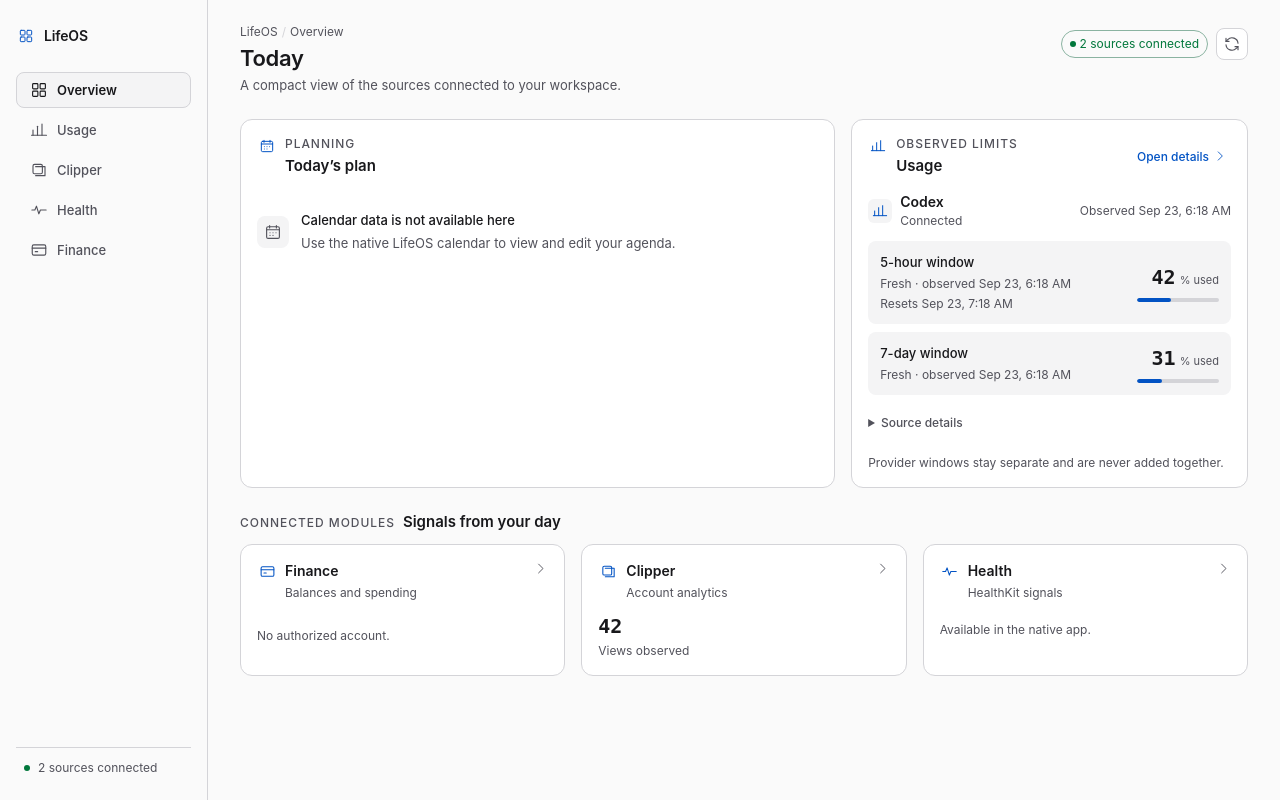
dashboard live source states › keeps the Clipper source summary singular across a stable route change
Click the button with class "nav-button" showing "Clipper" at (104, 170), box [16, 152, 191, 188]
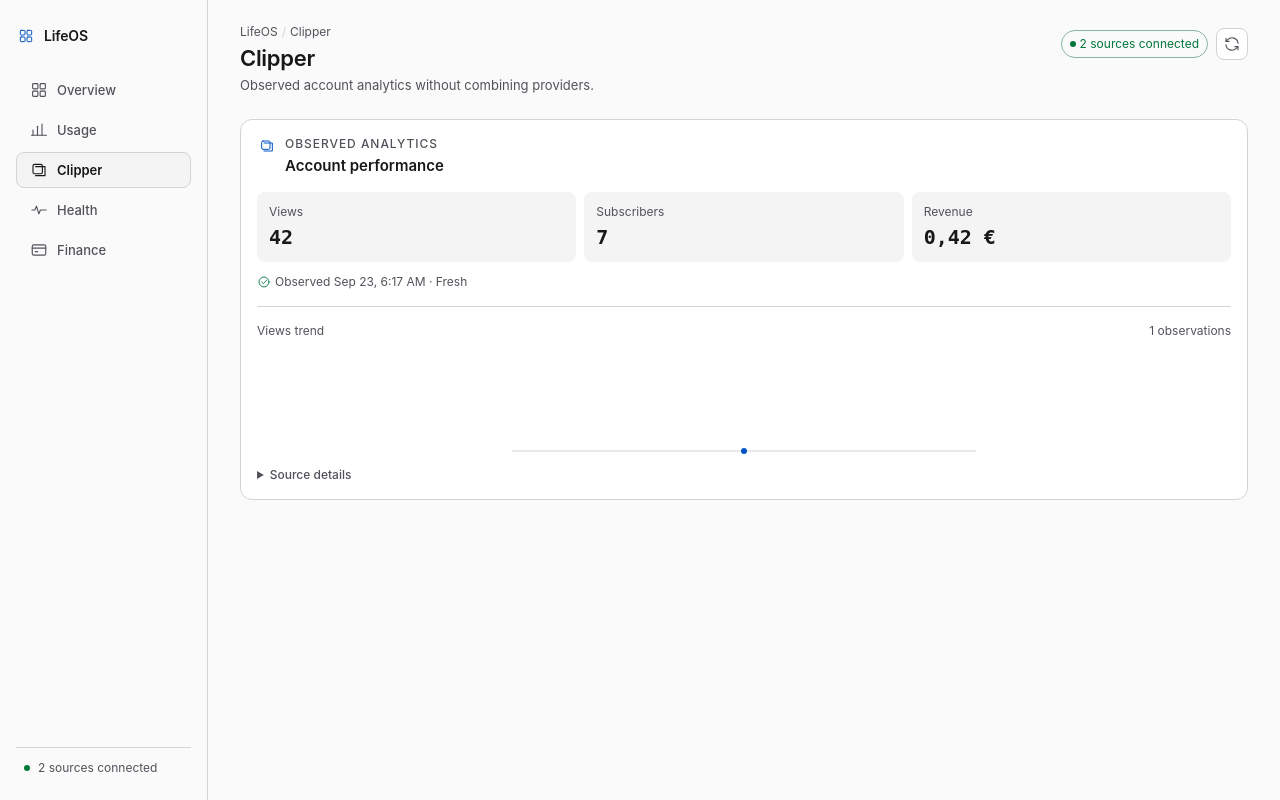
Check: the number of elements with class "source-summary" is 1, box [257, 274, 467, 289]
Click the button with class "nav-button" showing "Overview" at (104, 90), box [16, 72, 191, 108]
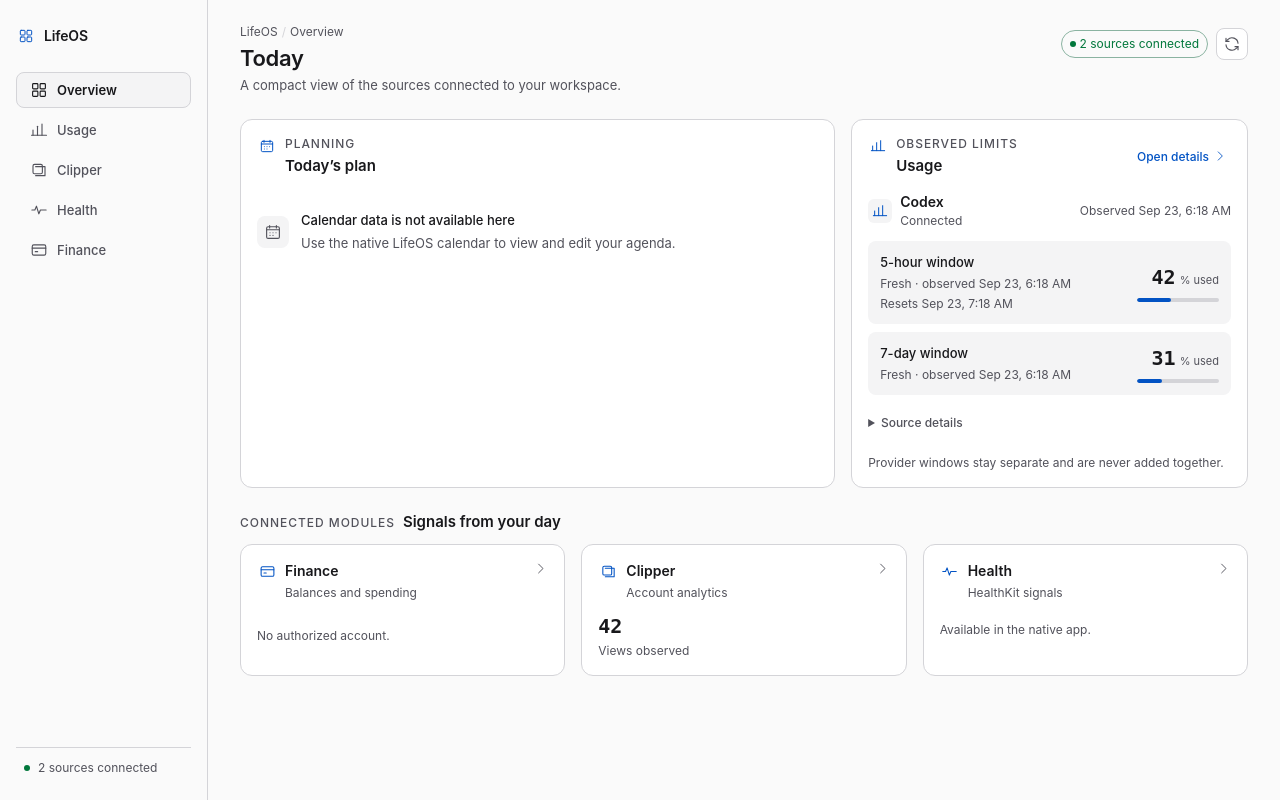
Click the button with class "nav-button" showing "Clipper" at (104, 170), box [16, 152, 191, 188]
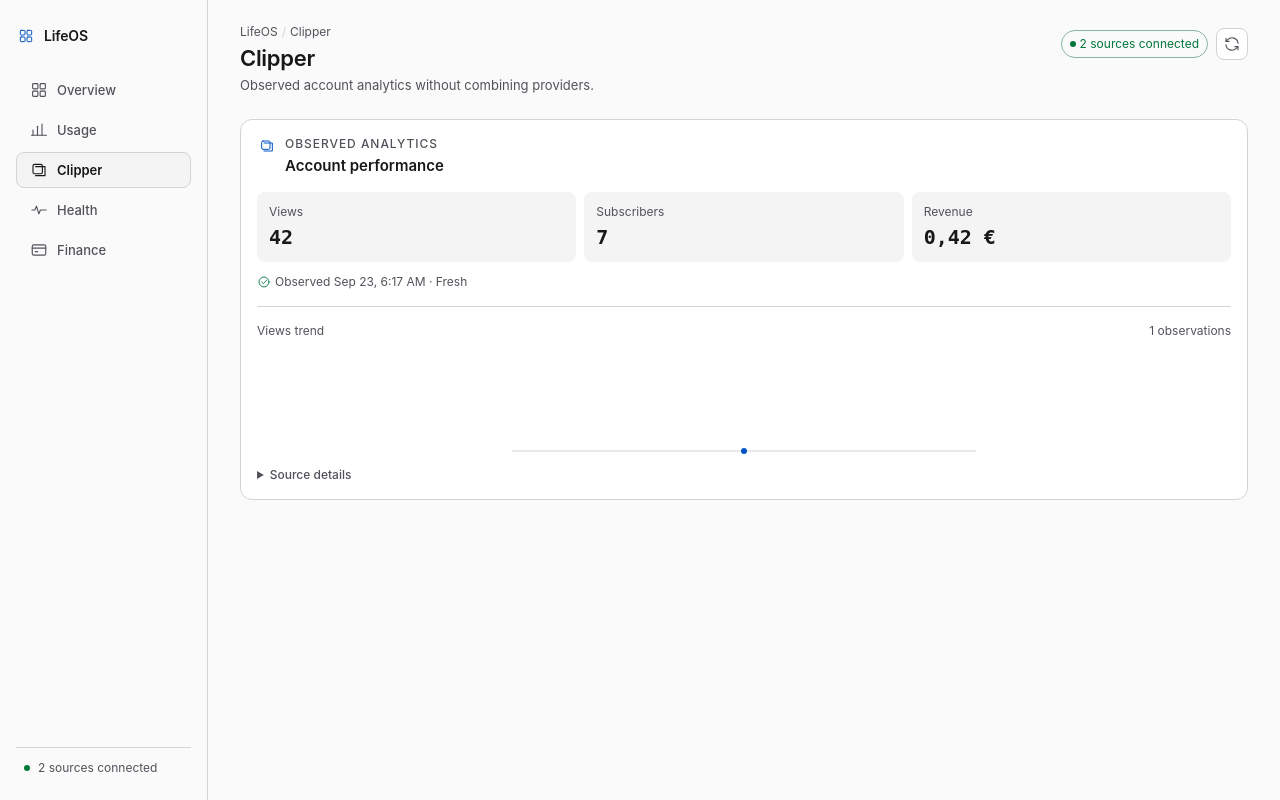
Check: the number of elements with class "source-summary" is 1, box [257, 274, 467, 289]
